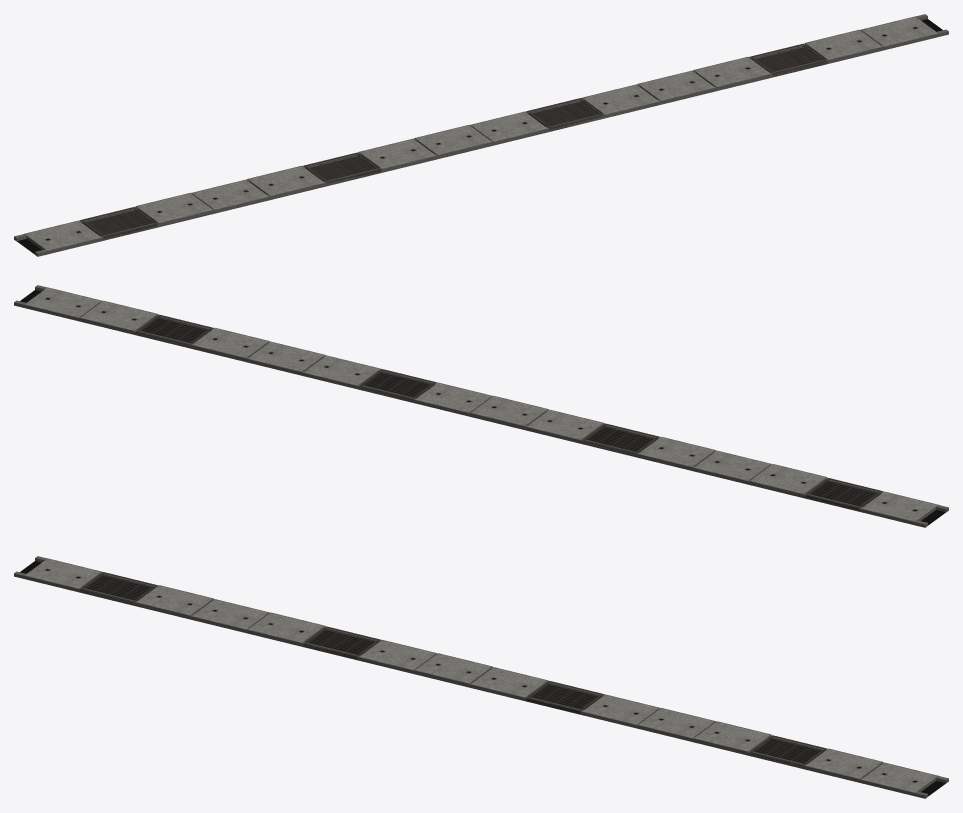
The model's file is ditch-cover.obj.
3 views of the same model, one above another, from view 1: azimuth 30°, elevation 25°; view 2: azimuth 150°, elevation 25°; view 3: azimuth 330°, elevation 25° (orthographic).
Parts seen in each view (by area): view 1: ditch-cover; view 2: ditch-cover; view 3: ditch-cover.
Boxes of the visible parts, x1=… form: ditch-cover: x1=14, y1=14, x2=948, y2=256; ditch-cover: x1=14, y1=285, x2=948, y2=527; ditch-cover: x1=14, y1=556, x2=948, y2=798.
Bounding box in the file's own units: 10 × 0.0398 × 0.45.
